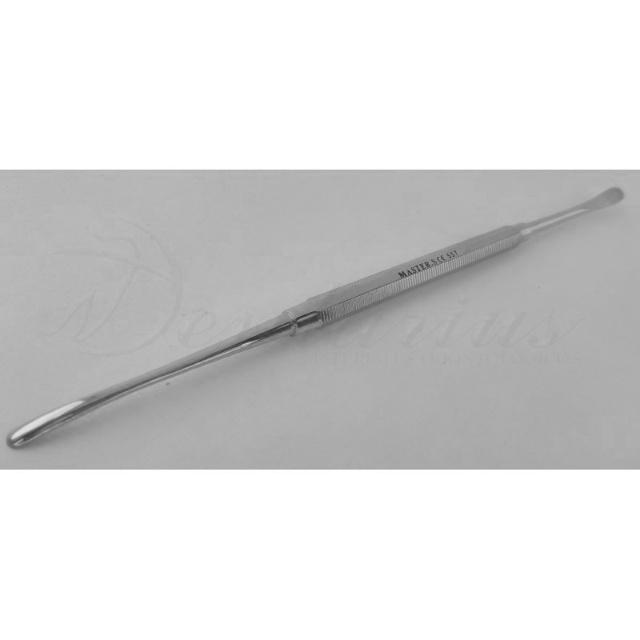elevador: (8, 187, 626, 452)
